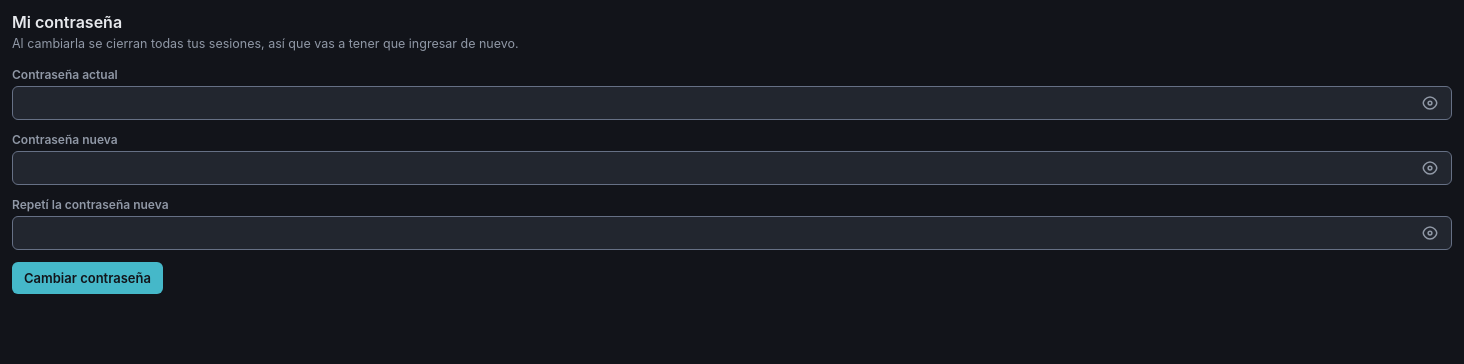
Scenario: PasswordPanel › muestra el error que devuelve el backend
This screenshot has width=1464, height=364.
Type "contrasena-de-prueba" into the password field labelled "Contraseña actual" at (732, 103), box [12, 86, 1452, 120]
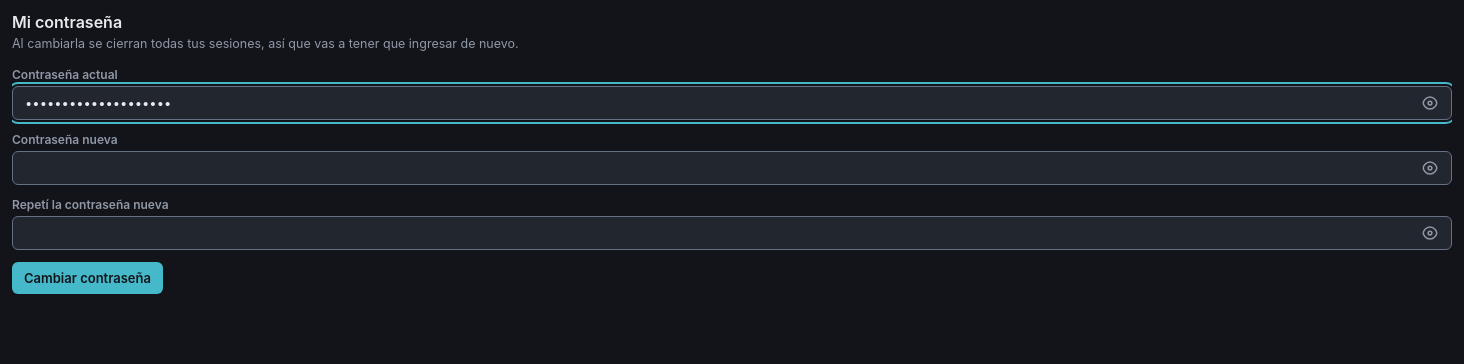
Type "contrasena-nueva" into the password field labelled "Contraseña nueva" at (732, 168), box [12, 151, 1452, 185]
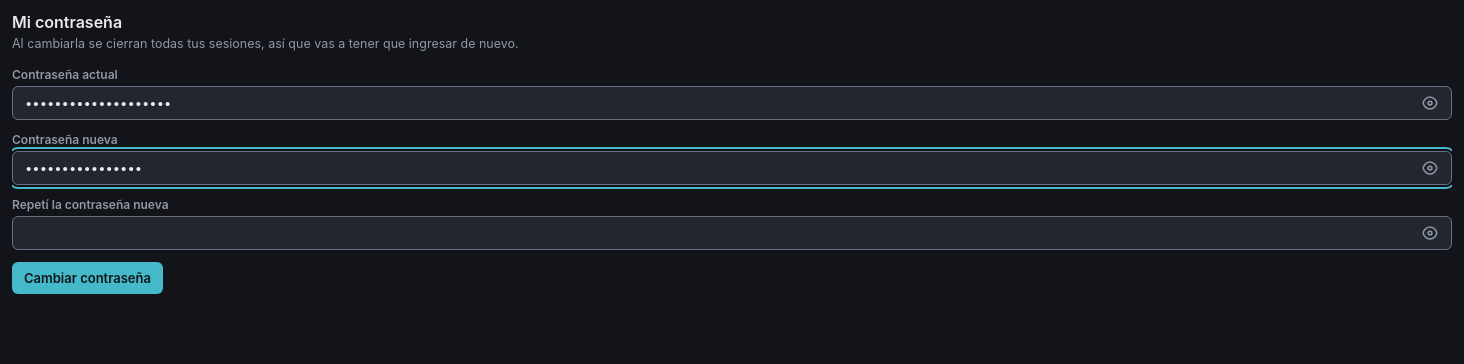
Type "contrasena-nueva" into the password field labelled "Repetí la contraseña nueva" at (732, 233), box [12, 216, 1452, 250]
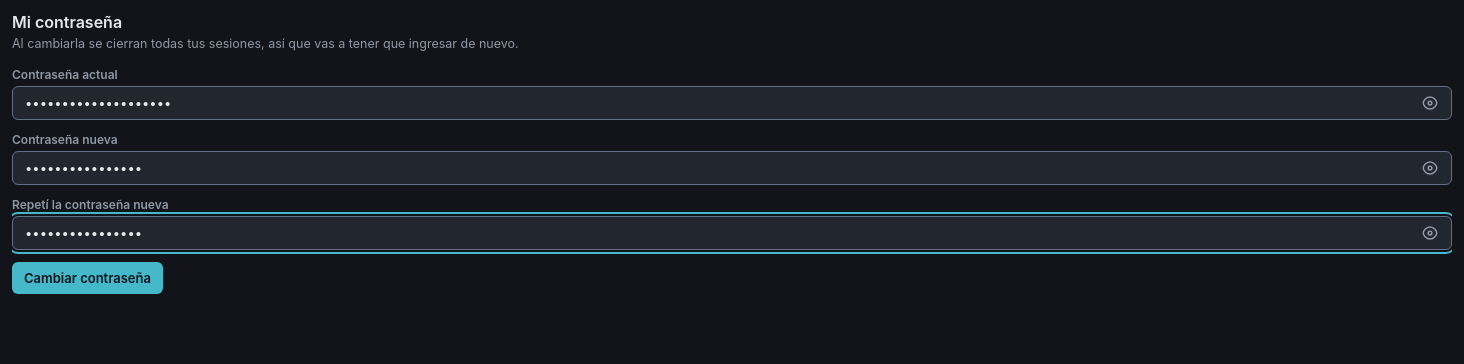
Click the button "Cambiar contraseña" at (88, 278), box [12, 262, 163, 294]
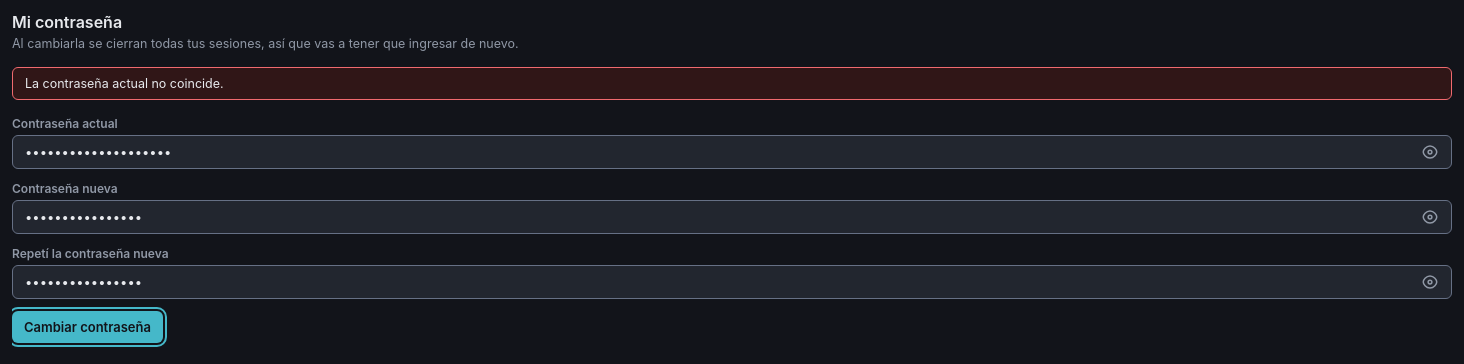
Check: the message reads "La contraseña actual no coincide.", box [25, 76, 224, 91]
